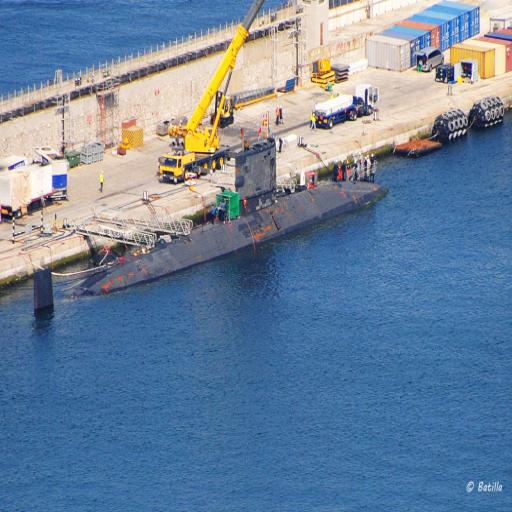submarine: (29, 137, 383, 315)
